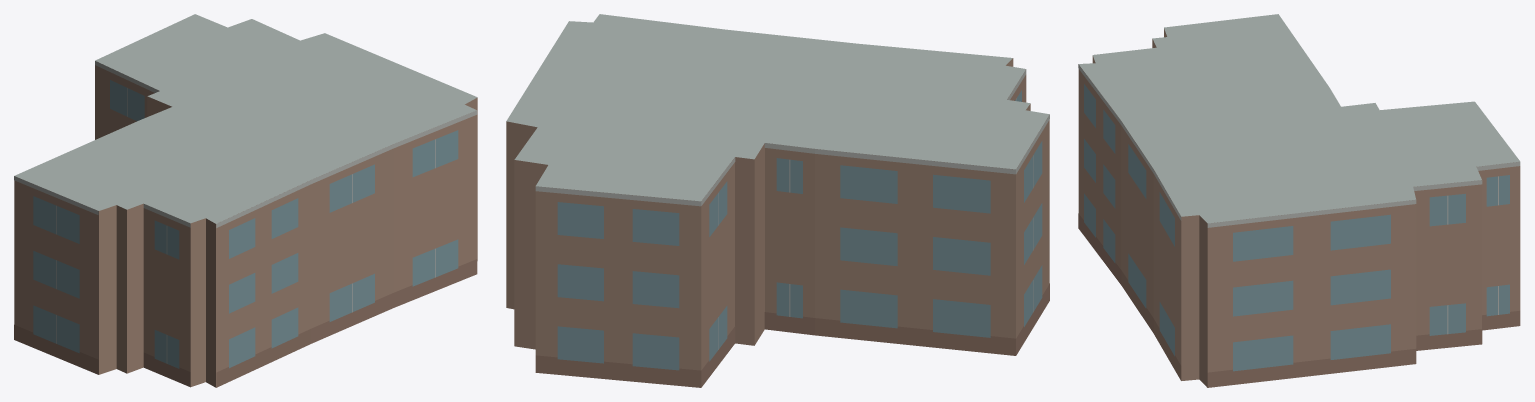
File: survey-upis-32754940.glb
3 renders of one model, left to right at view 1: azimuth 30°, elevation 25°; view 2: azimuth 150°, elevation 25°; view 3: azimuth 270°, elevation 25°, orthographic. The views are drawn at different scales.
Parts seen in each view (by area): view 1: survey-upis-32754940.tmp; view 2: survey-upis-32754940.tmp; view 3: survey-upis-32754940.tmp.
Boxes of the visible parts, x1,y1,x2,y2 form: survey-upis-32754940.tmp: (14,14,477,387); survey-upis-32754940.tmp: (506,14,1049,387); survey-upis-32754940.tmp: (1078,14,1520,387).
Size of the model in its own units: 25.03 by 9.15 by 22.31.
